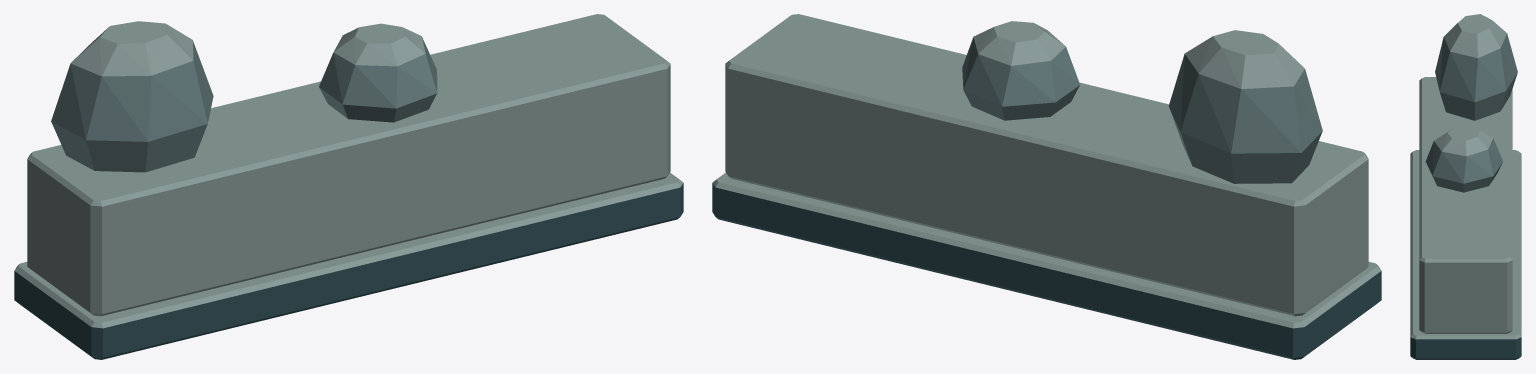
File: wall-broken.glb
3 renders of one model, left to right at view 1: azimuth 30°, elevation 25°; view 2: azimuth 150°, elevation 25°; view 3: azimuth 270°, elevation 25°, orthographic. The views are drawn at different scales.
Parts seen in each view (by area): view 1: wall-broken__body; view 2: wall-broken__body; view 3: wall-broken__body.
Boxes of the visible parts, x1,y1,x2,y2 form: wall-broken__body: (14,14,683,359); wall-broken__body: (712,14,1381,359); wall-broken__body: (1410,14,1521,359).
Bounding box in the file's own units: 2 × 0.88 × 0.5.
